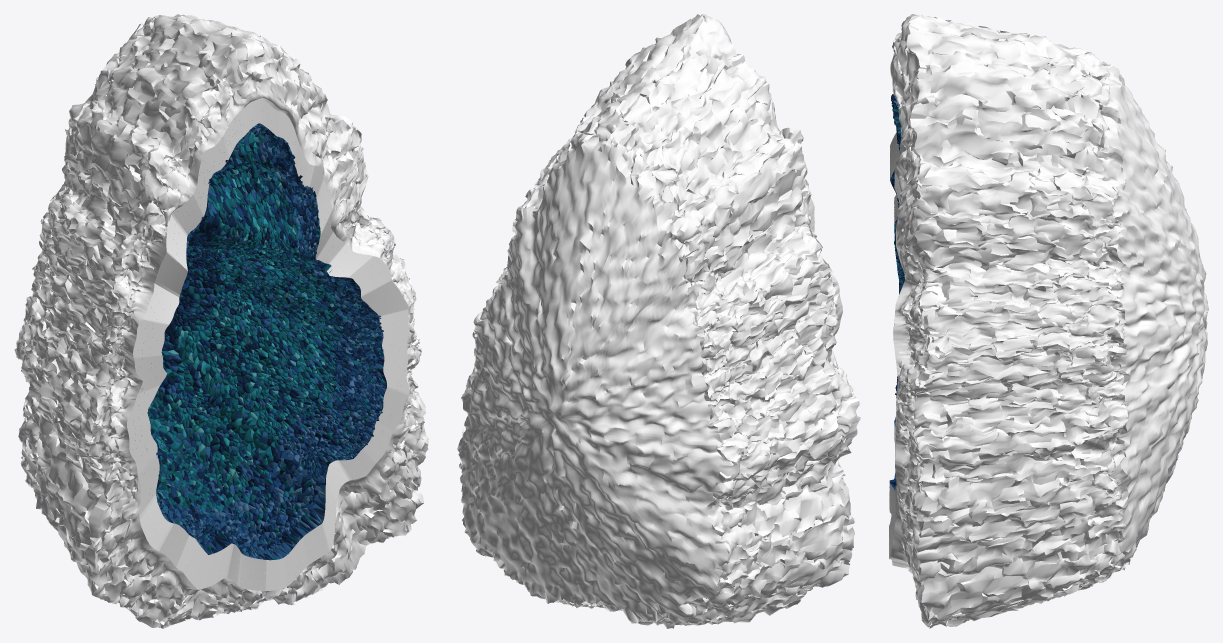
The model's file is geode-sharp-rim.glb.
3 renders of one model, left to right at view 1: azimuth 30°, elevation 25°; view 2: azimuth 150°, elevation 25°; view 3: azimuth 270°, elevation 25°, orthographic.
Visible parts, largest first — view 1: Geode body.002; view 2: Geode body.002; view 3: Geode body.002.
Boxes of the visible parts, x1=… form: Geode body.002: x1=14, y1=14, x2=428, y2=628; Geode body.002: x1=457, y1=14, x2=860, y2=628; Geode body.002: x1=889, y1=14, x2=1208, y2=628.
Bounding box in the file's own units: 0.4926 × 0.8049 × 0.4059.
